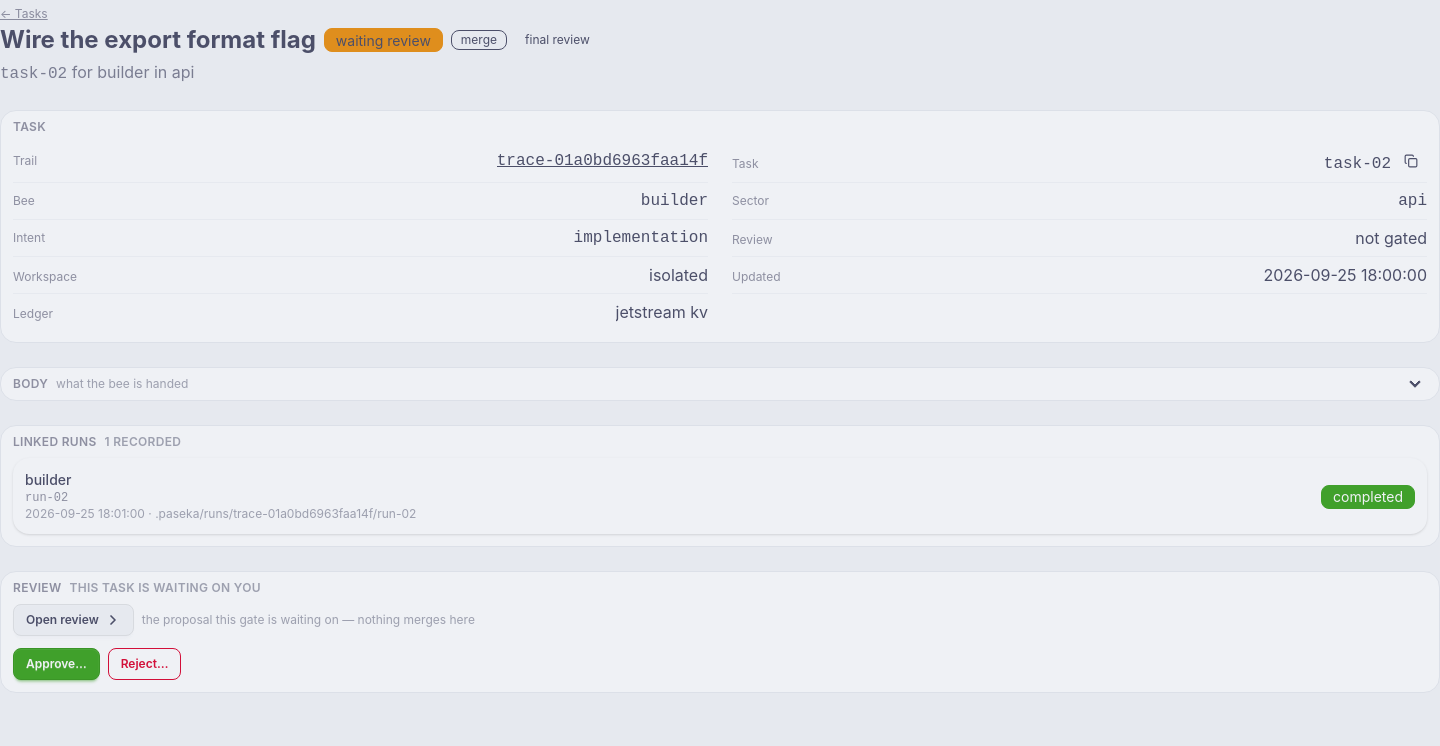
task detail › collapses the review form until asked, and keeps Reject to one box
Expected: the text "waiting review" is shown, [324,28,443,52]
Expected: the field labelled "Approval summary" is not shown
Click the button "Approve…" at x=56, y=664, box [13,648,100,680]
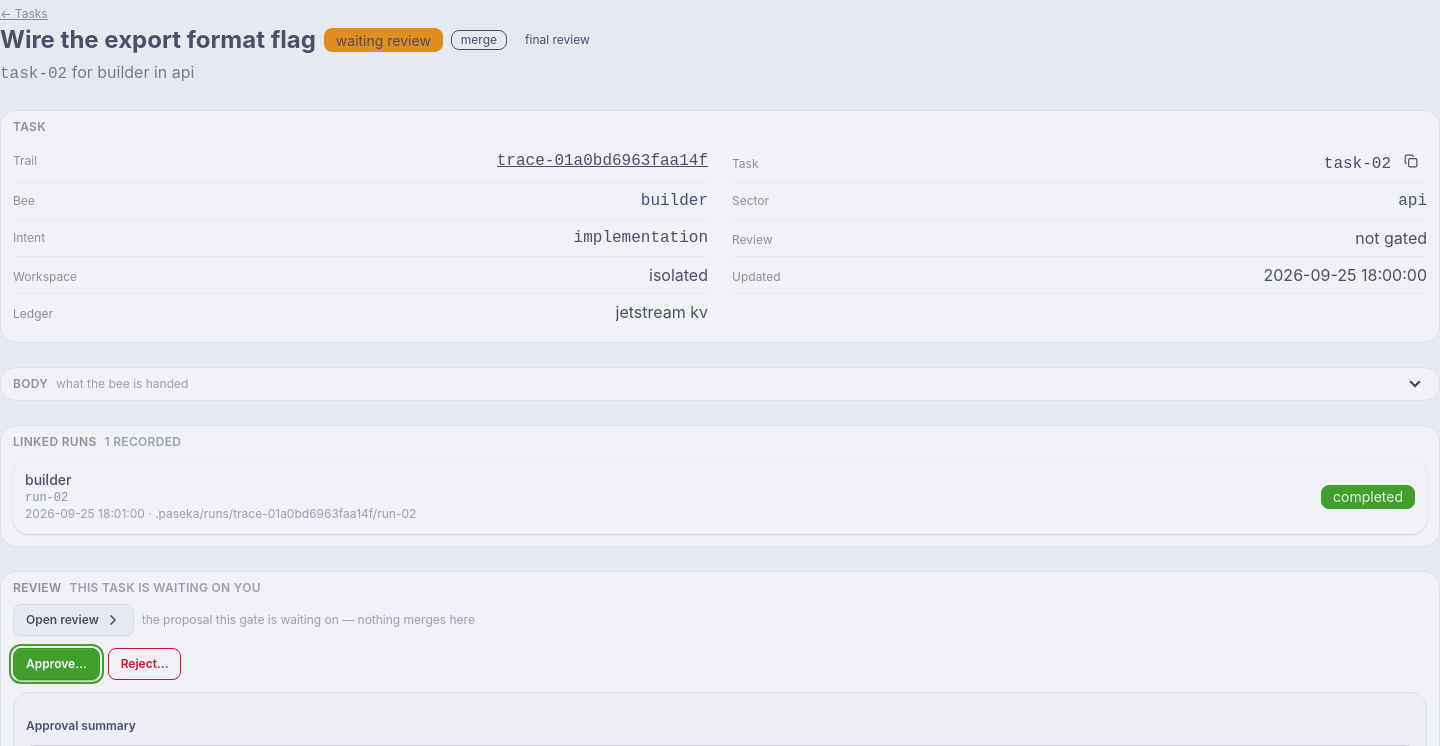
Click the button "Reject…" at x=145, y=664, box [108,648,181,680]
(page scrolled)
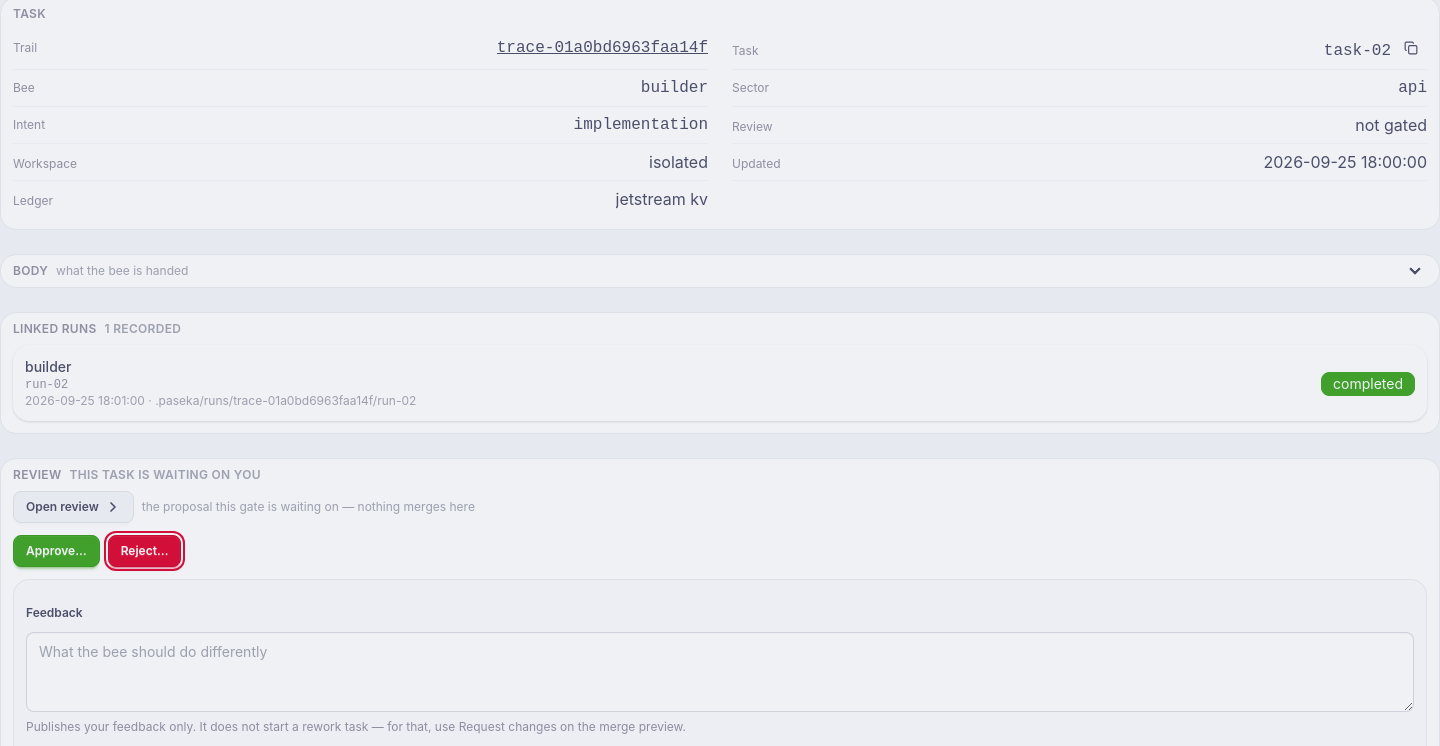
Expected: the text box labelled "Feedback" is shown, [26,632,1414,712]
Expected: the label labelled "Approval summary" is gone
